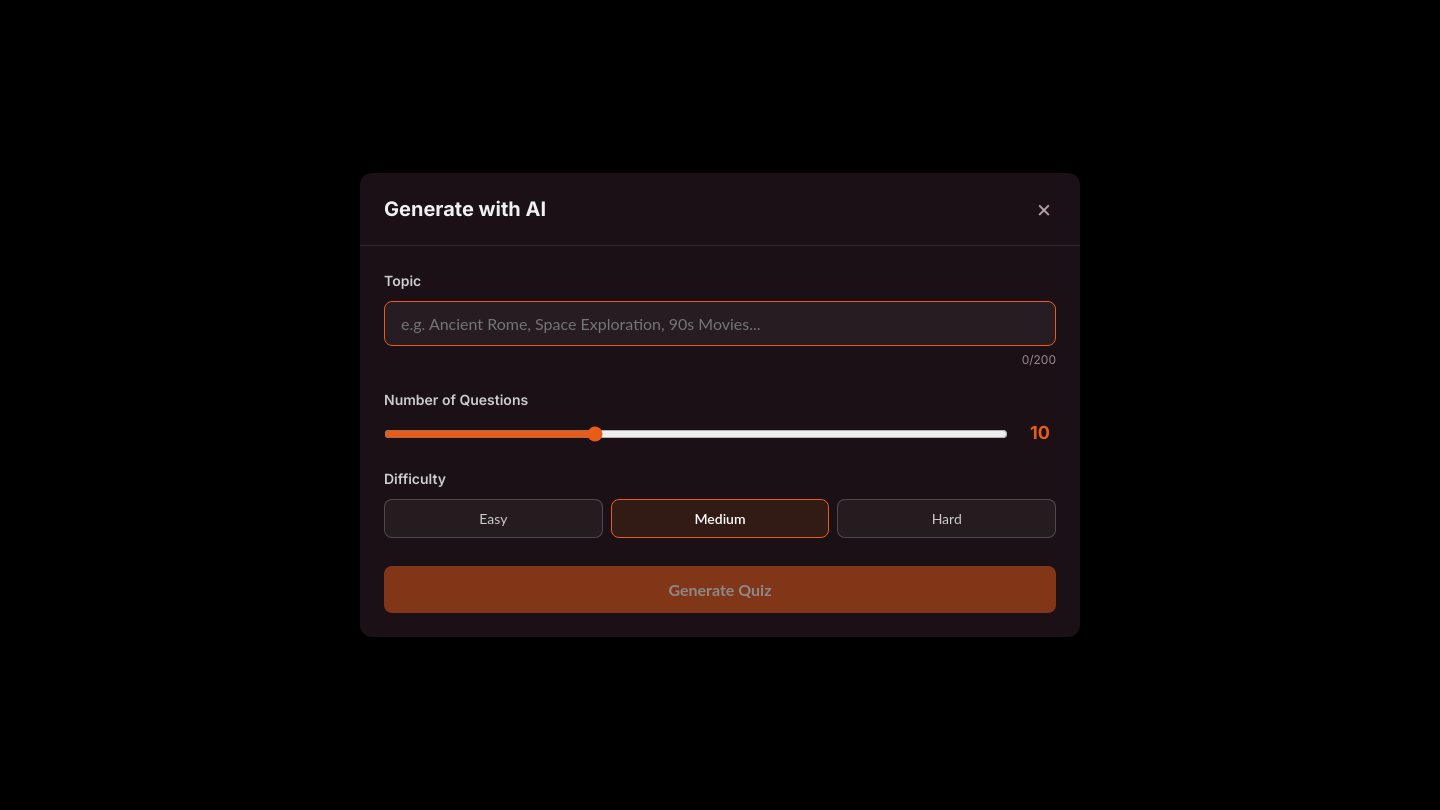
AIGenerateModal › shows generating state with loading spinner
Step 1. Type "Space" into the field labelled "Topic" → (720, 323), box x1=384 y1=301 x2=1056 y2=346
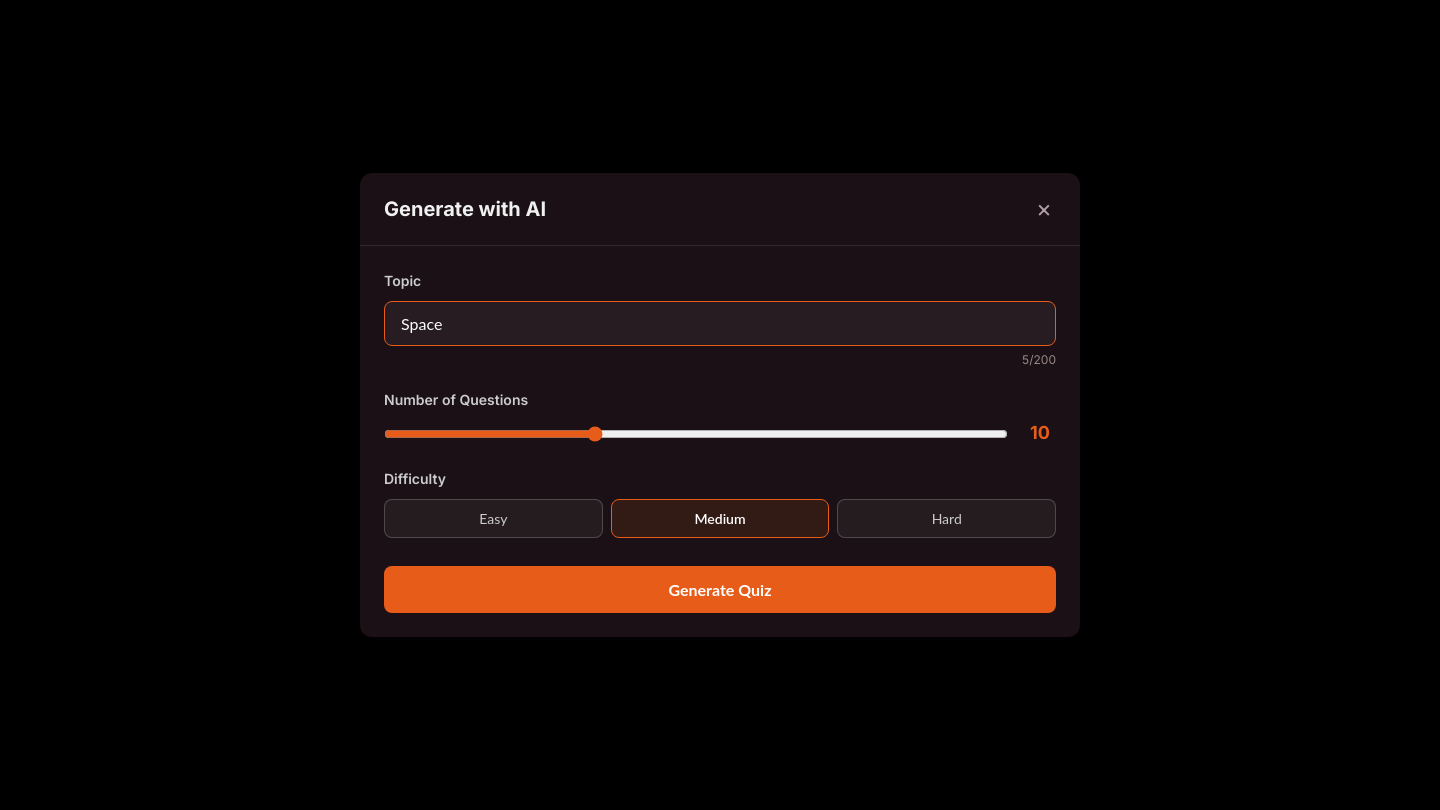
Step 2. Click the button "Generate Quiz" → (720, 589), box x1=384 y1=566 x2=1056 y2=613
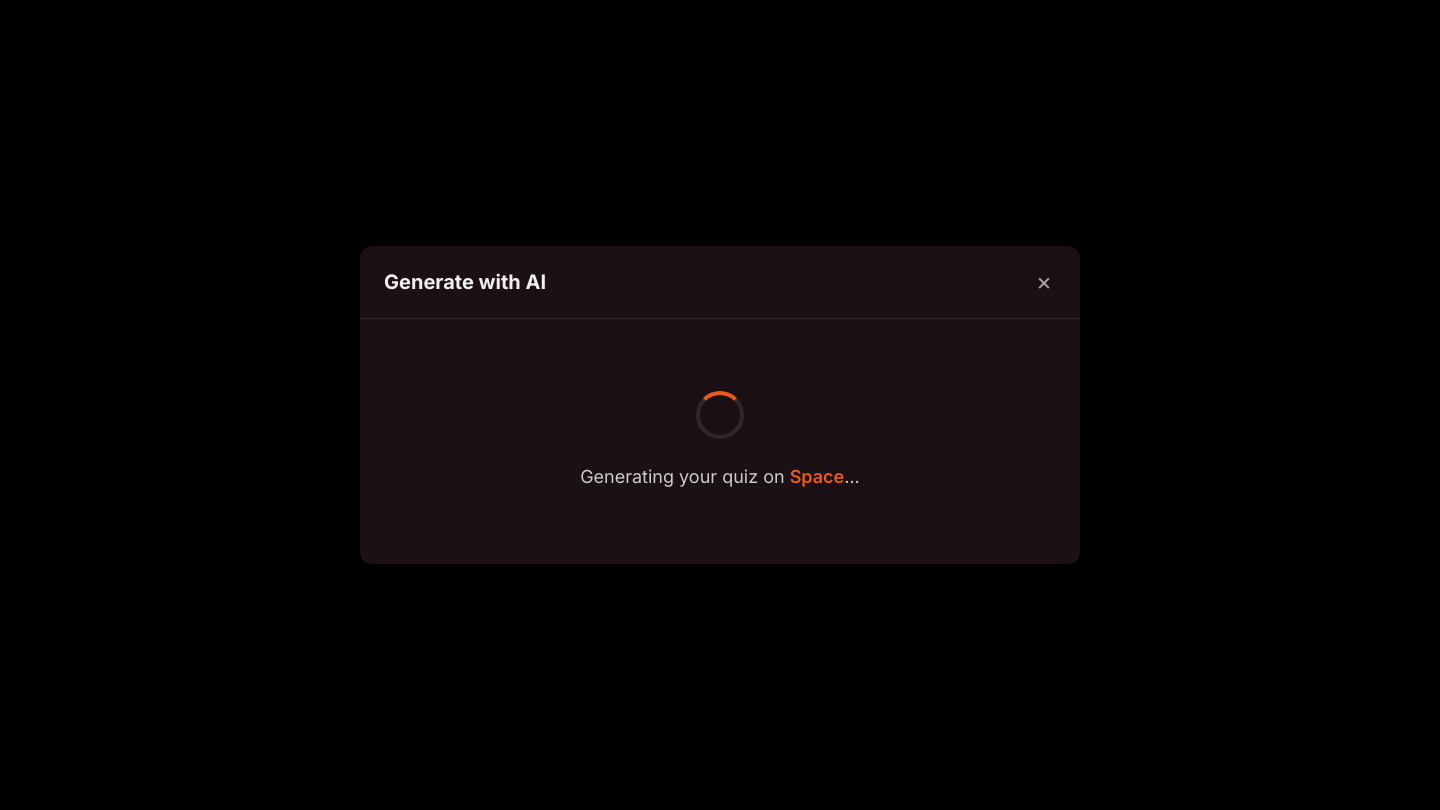
Result: the text "Generating your quiz on Space..." is shown at x1=580 y1=466 x2=860 y2=487
Result: the text "Space" is shown at x1=790 y1=466 x2=844 y2=487
